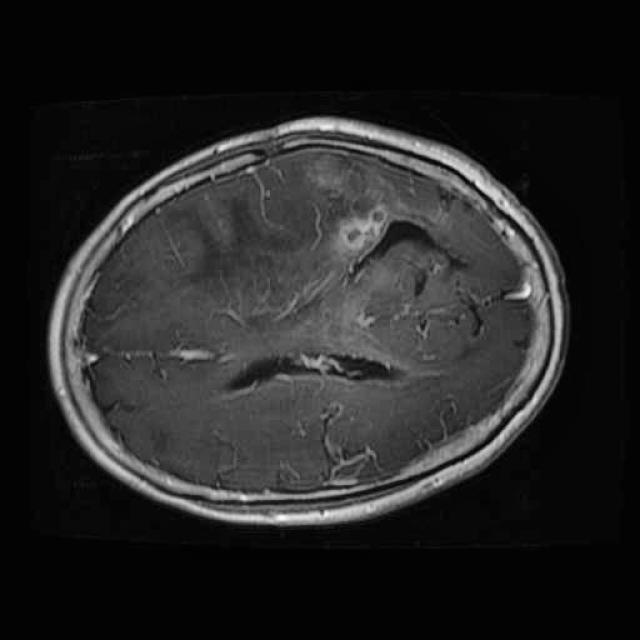Tumor: (315, 189, 473, 341)
